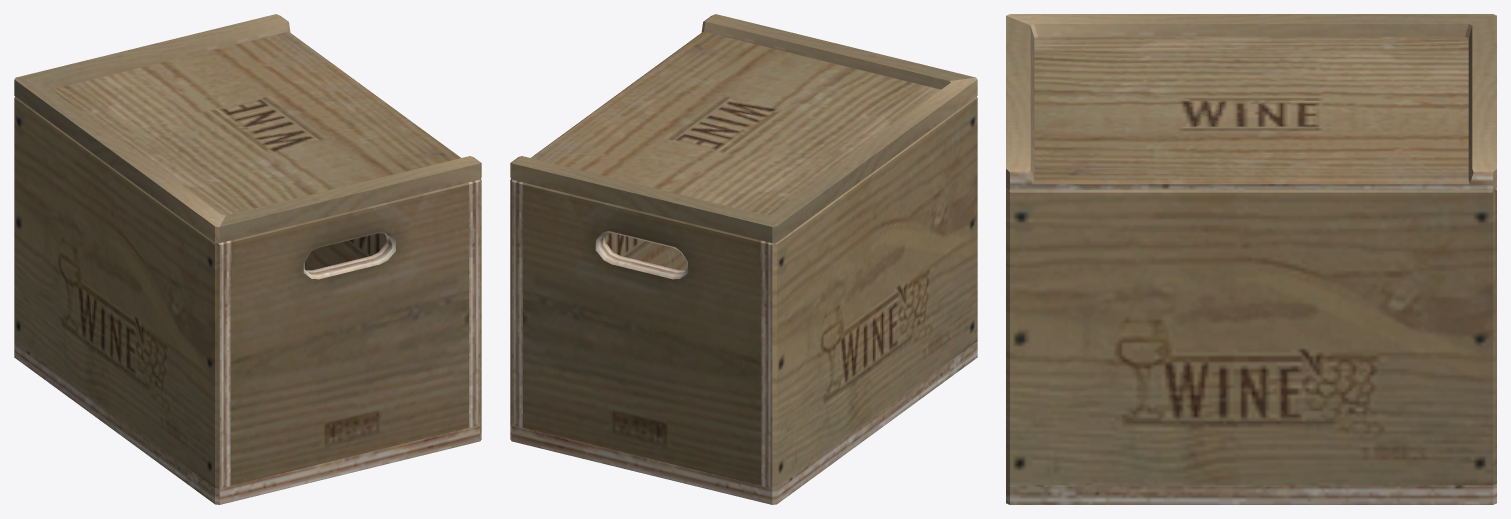
Rendered from com_wine_crate_close_lod0.glb.
3 views of the same model, side by side, from view 1: azimuth 30°, elevation 25°; view 2: azimuth 150°, elevation 25°; view 3: azimuth 270°, elevation 25° (orthographic). The views are drawn at different scales.
Parts seen in each view (by area): view 1: surf0; view 2: surf0; view 3: surf0.
Part boxes in pixels (left/top/right/bottom): surf0: left=14, top=14, right=481, bottom=504; surf0: left=510, top=14, right=977, bottom=504; surf0: left=1006, top=14, right=1496, bottom=504.
Bounding box in the file's own units: 18.11 × 18.06 × 24.02.
